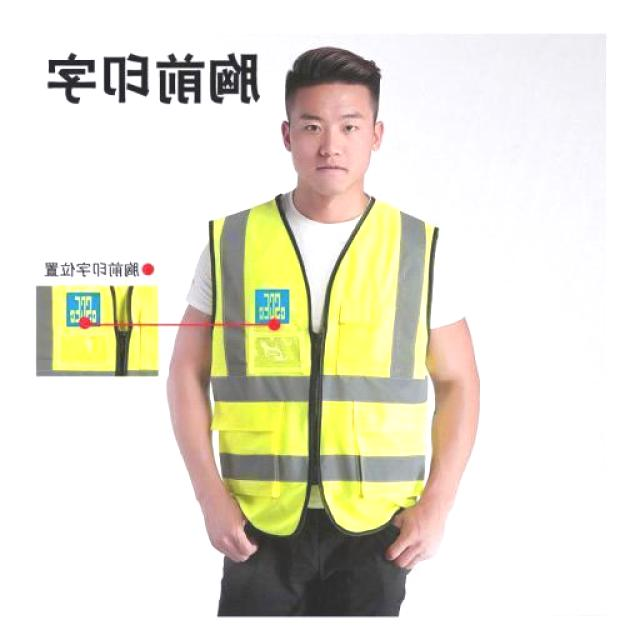face_nomask: (291, 108, 369, 181)
hand_noglove: (380, 505, 446, 575), (198, 502, 258, 566)
head_nohelmet: (278, 44, 388, 100)
person: (162, 44, 488, 616)
vest: (208, 193, 446, 533)
